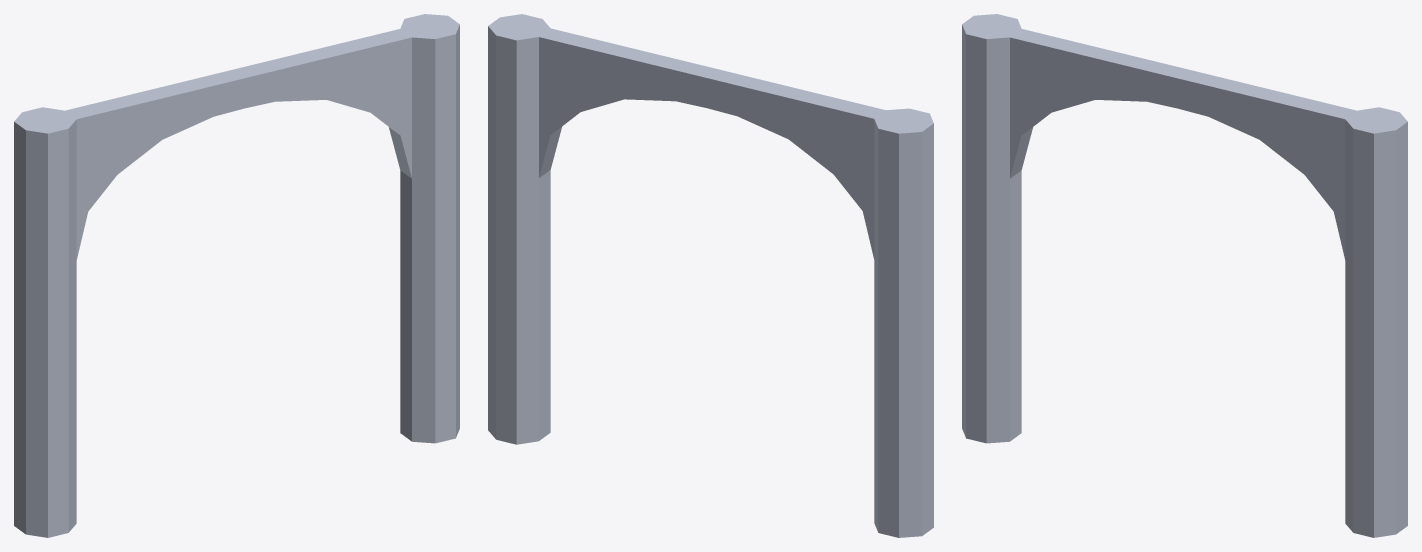
Rendered from stage4_2_arch_ex1.fbx.
The picture shows the model from 3 angles, left to right: view 1: azimuth 30°, elevation 25°; view 2: azimuth 150°, elevation 25°; view 3: azimuth 330°, elevation 25°; orthographic projection.
Visible parts, largest first — view 1: ex_hasira; view 2: ex_hasira; view 3: ex_hasira.
Boxes of the visible parts, left/top/right/bottom form: ex_hasira: left=14, top=14, right=459, bottom=537; ex_hasira: left=488, top=14, right=933, bottom=537; ex_hasira: left=962, top=14, right=1407, bottom=537.
Size of the model in its own units: 2256 by 2008 by 256.
